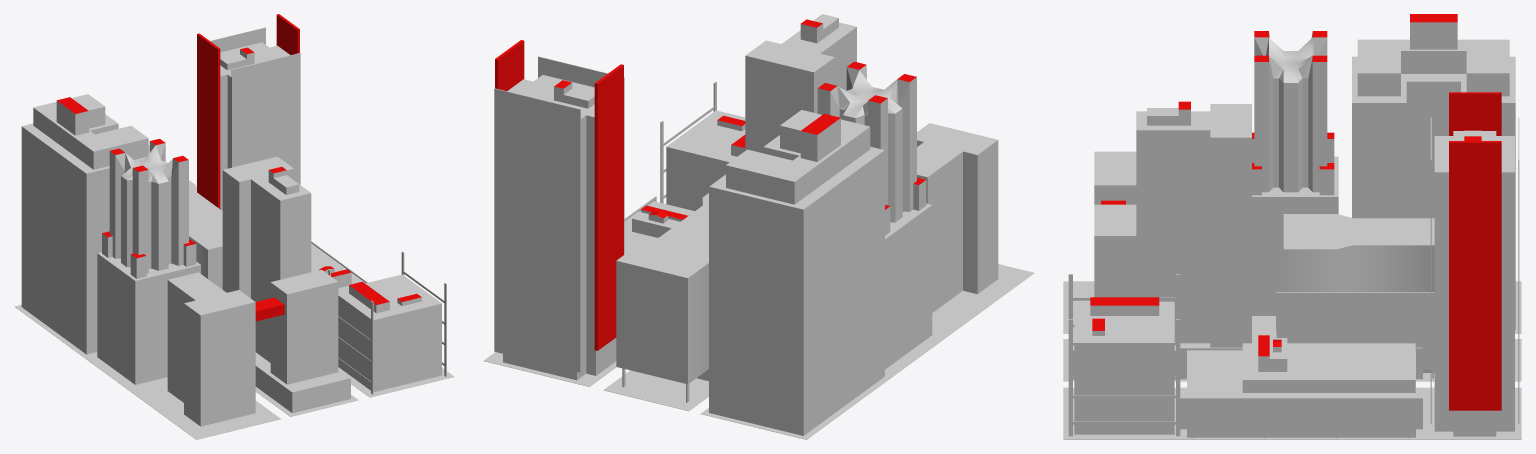
3 views of the same model, side by side, from view 1: azimuth 30°, elevation 25°; view 2: azimuth 150°, elevation 25°; view 3: azimuth 270°, elevation 25° (orthographic). The views are drawn at different scales.
Parts seen in each view (by area): view 1: Box05, color; view 2: Box05, color; view 3: Box05, color.
Part boxes in pixels (left/top/right/bottom): Box05: left=14, top=27, right=454, bottom=439; color: left=57, top=14, right=421, bottom=321; Box05: left=483, top=14, right=1034, bottom=439; color: left=495, top=19, right=925, bottom=350; Box05: left=1063, top=22, right=1521, bottom=439; color: left=1090, top=14, right=1501, bottom=410.
Bounding box in the file's own units: 27481 × 23976 × 33577.
